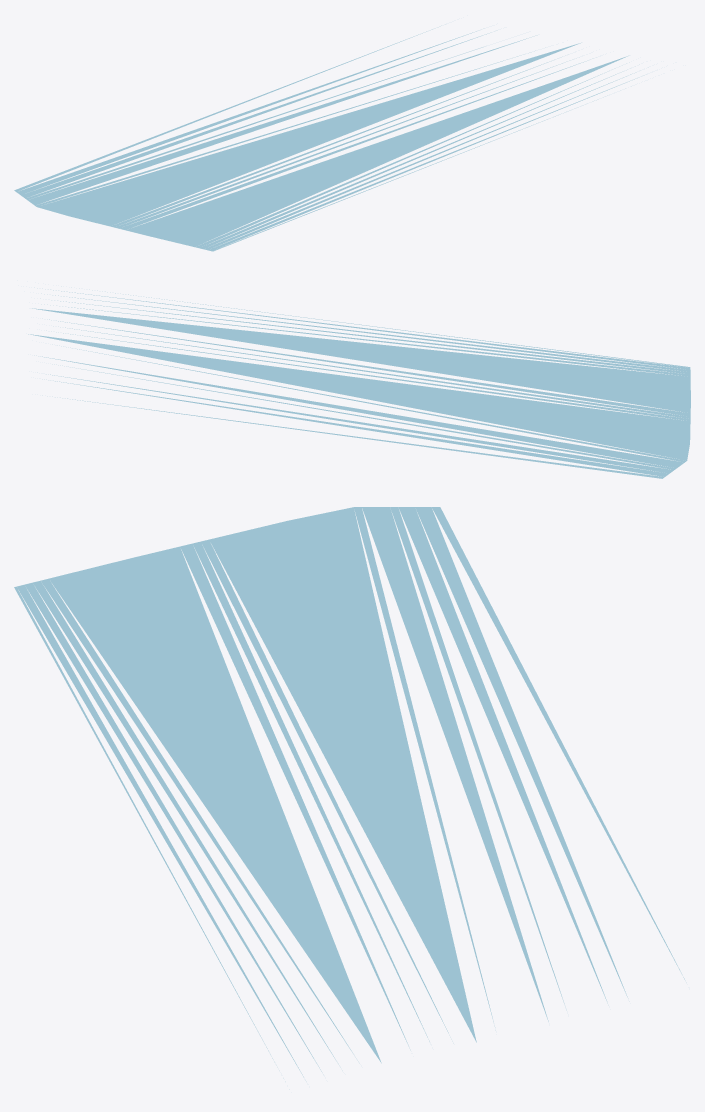
The model's file is terrain-context-C-x-2-z-1.glb.
The picture shows the model from 3 angles, top to bottom: view 1: azimuth 30°, elevation 25°; view 2: azimuth 150°, elevation 25°; view 3: azimuth 270°, elevation 25°; orthographic projection. The views are drawn at different scales.
Visible parts, largest first — view 1: C-x-2-z-1; view 2: C-x-2-z-1; view 3: C-x-2-z-1.
Part boxes in pixels (bbox=[...]): C-x-2-z-1: bbox=[14, 24, 648, 251]; C-x-2-z-1: bbox=[28, 286, 690, 478]; C-x-2-z-1: bbox=[14, 507, 686, 1089].
Bounding box in the file's own units: 294 × 1.92e-05 × 143.
